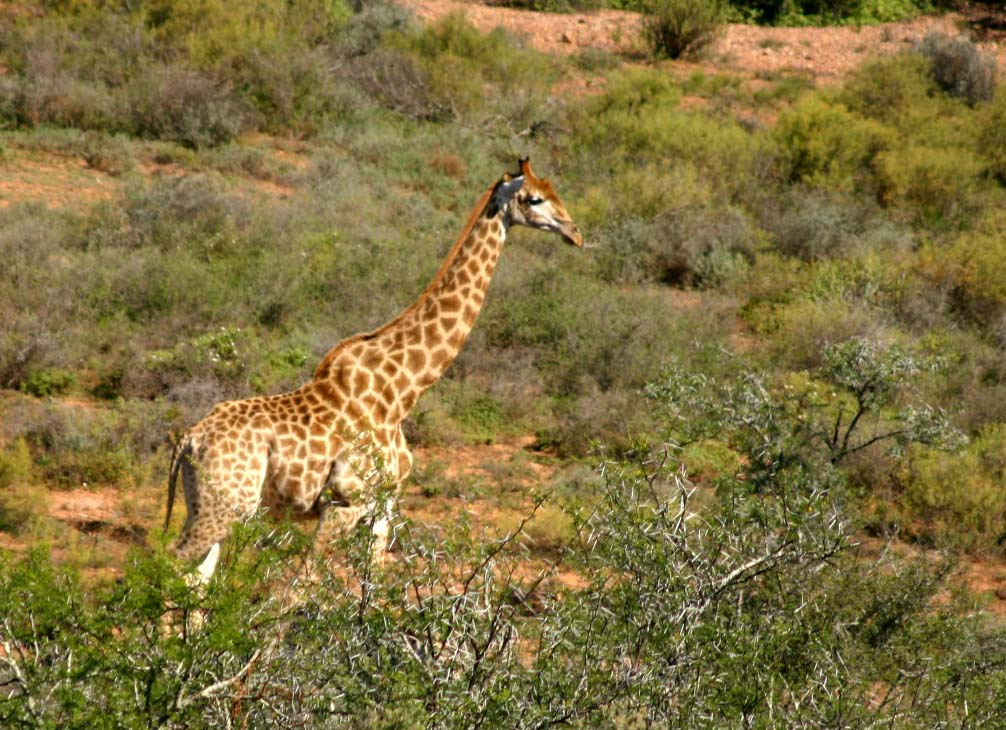giraffe: (125, 157, 577, 587)
